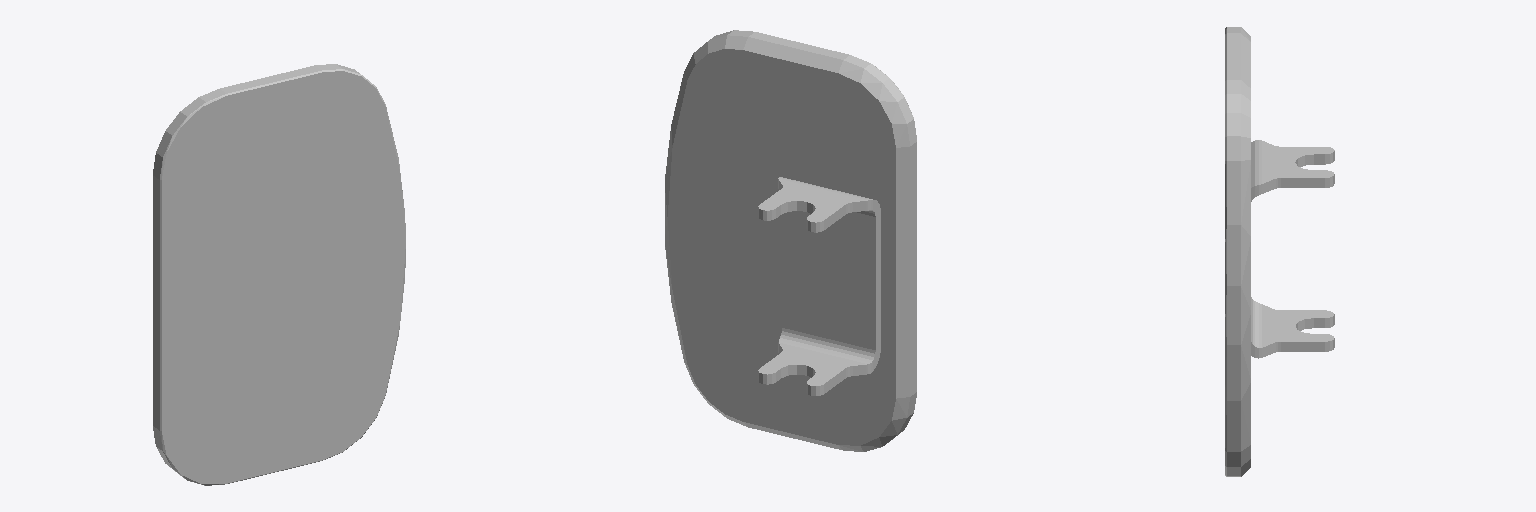
File: Shoe_Flex_1__1_mesh.obj
3 renders of one model, left to right at view 1: azimuth 30°, elevation 25°; view 2: azimuth 150°, elevation 25°; view 3: azimuth 270°, elevation 25°, orthographic.
Visible parts, largest first — view 1: Body1; view 2: Body2, Body1; view 3: Body1, Body2.
Boxes of the visible parts, <box> form: Body1: <box>153,64,405,485</box>; Body2: <box>671,54,891,441</box>; Body1: <box>665,30,916,451</box>; Body1: <box>1225,27,1250,476</box>; Body2: <box>1251,140,1334,358</box>.
Size of the model in its own units: 0.0763 by 0.1159 by 0.0294.